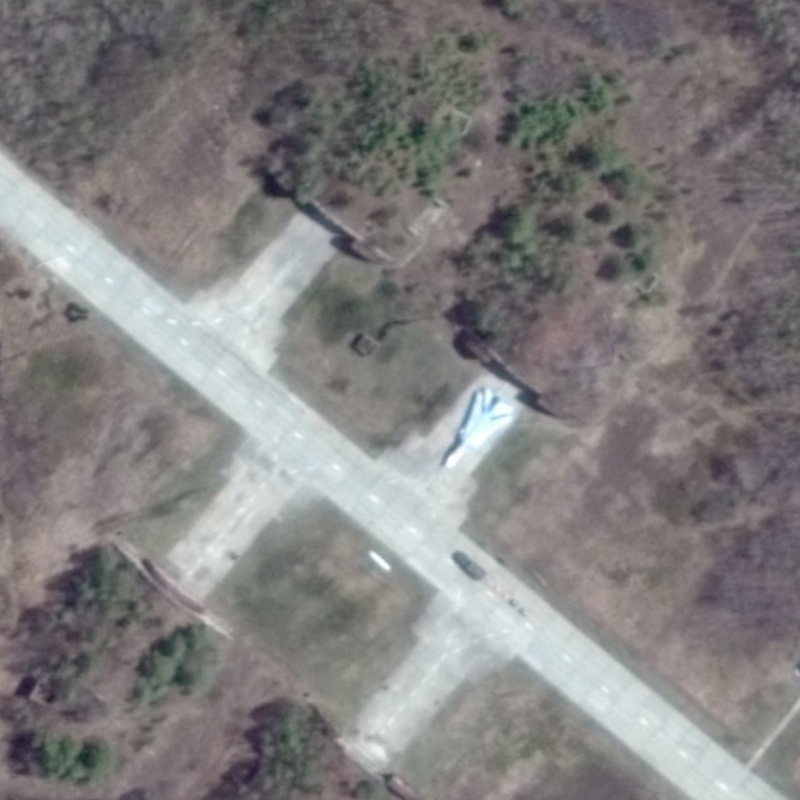A20: (442, 386, 518, 471)
